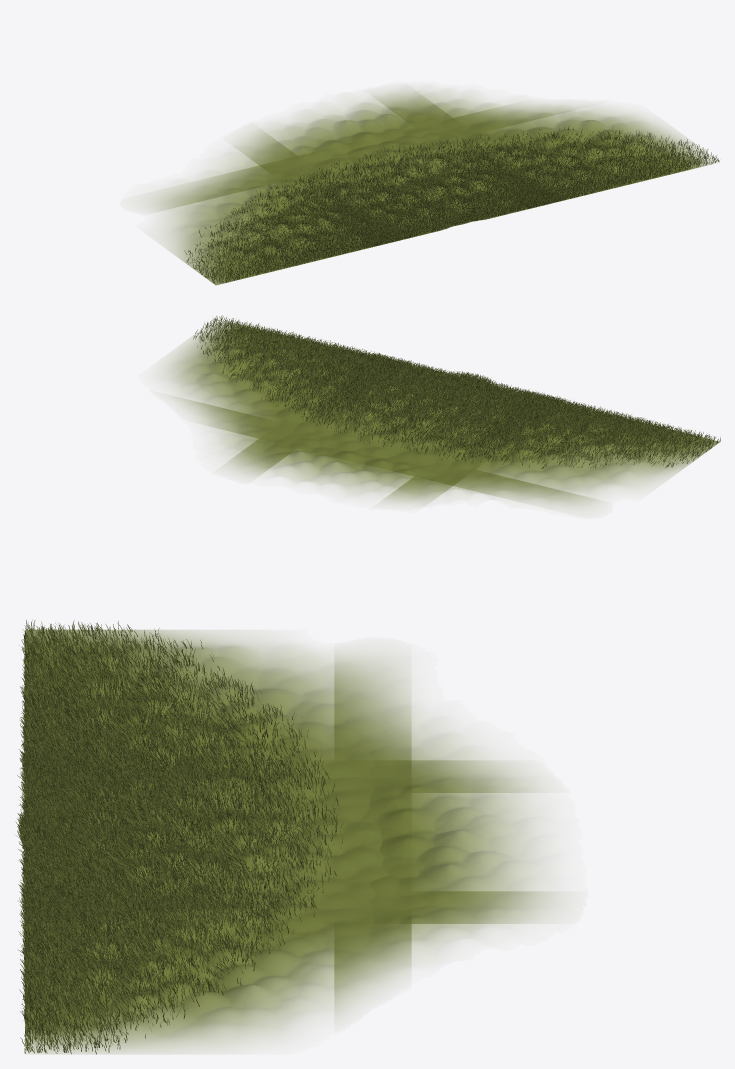
File: Trickster-Erratic-ground-v1_1.glb
3 views of the same model, one above another, from view 1: azimuth 30°, elevation 25°; view 2: azimuth 150°, elevation 25°; view 3: azimuth 270°, elevation 25° (orthographic). The views are drawn at different scales.
Parts seen in each view (by area): view 1: Landscape.013, ToMesh: DensityScatter.002; view 2: Landscape.013, ToMesh: DensityScatter.002; view 3: Landscape.013, ToMesh: DensityScatter.002.
Boxes of the visible parts, x1=… form: Landscape.013: x1=145, y1=87, x2=717, y2=285; ToMesh: DensityScatter.002: x1=184, y1=125, x2=719, y2=284; Landscape.013: x1=162, y1=320, x2=719, y2=508; ToMesh: DensityScatter.002: x1=193, y1=315, x2=720, y2=468; Landscape.013: x1=20, y1=629, x2=561, y2=1053; ToMesh: DensityScatter.002: x1=15, y1=620, x2=343, y2=1054.
Bounding box in the file's own units: 13.07 × 0.3742 × 9.14.
Materials: 2 (1 with a texture image).
